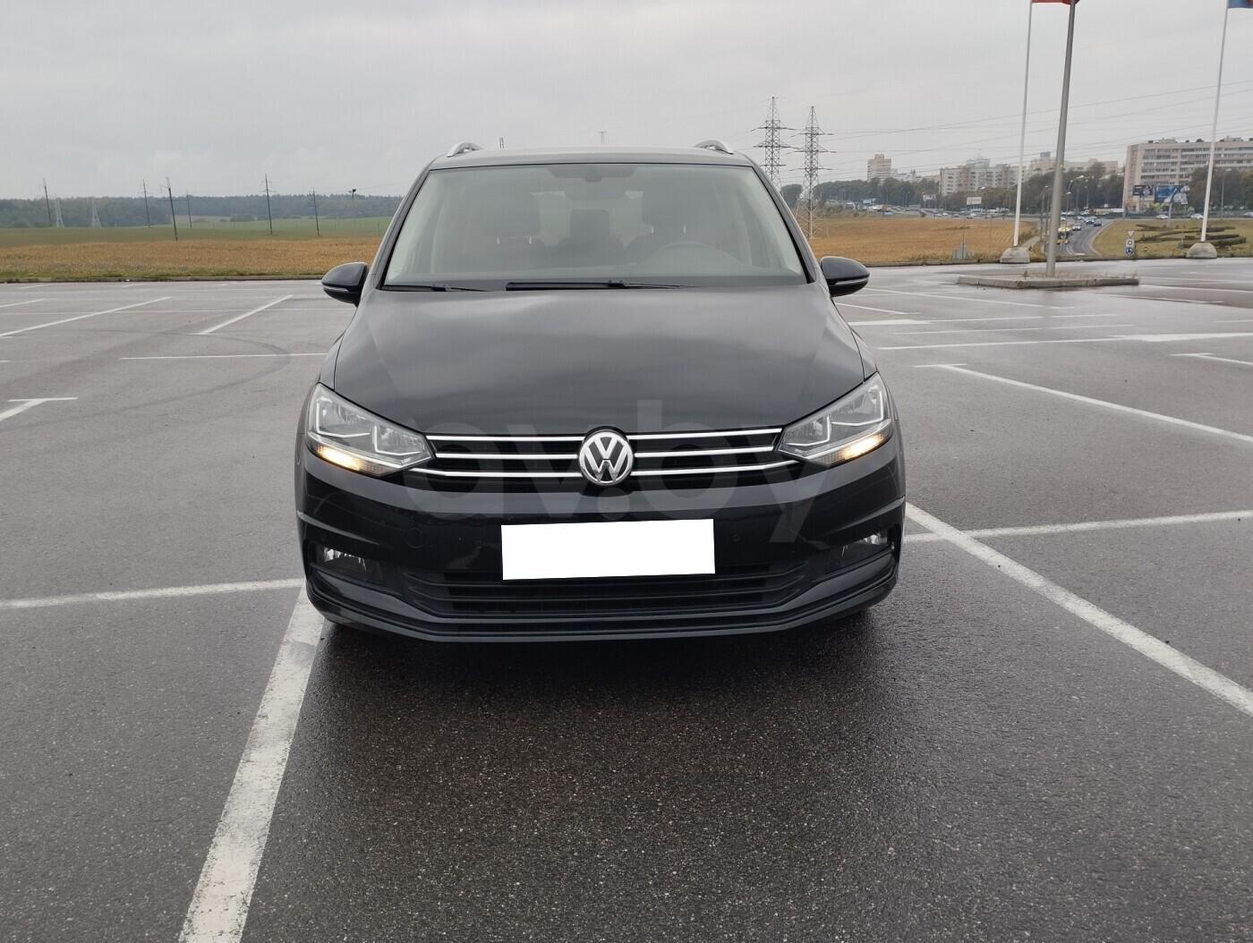Touran_2015: (289, 143, 914, 651)
